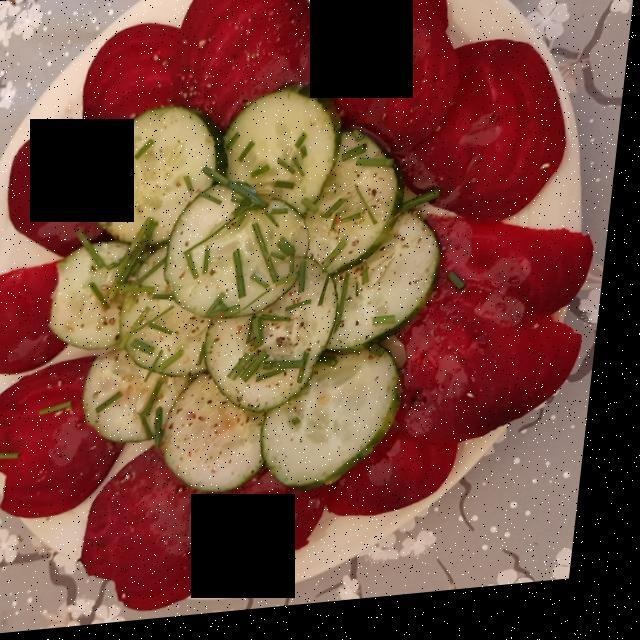beetroot: (0, 0, 589, 595)
chives: (102, 144, 405, 402)
cucumber: (60, 96, 442, 495)
